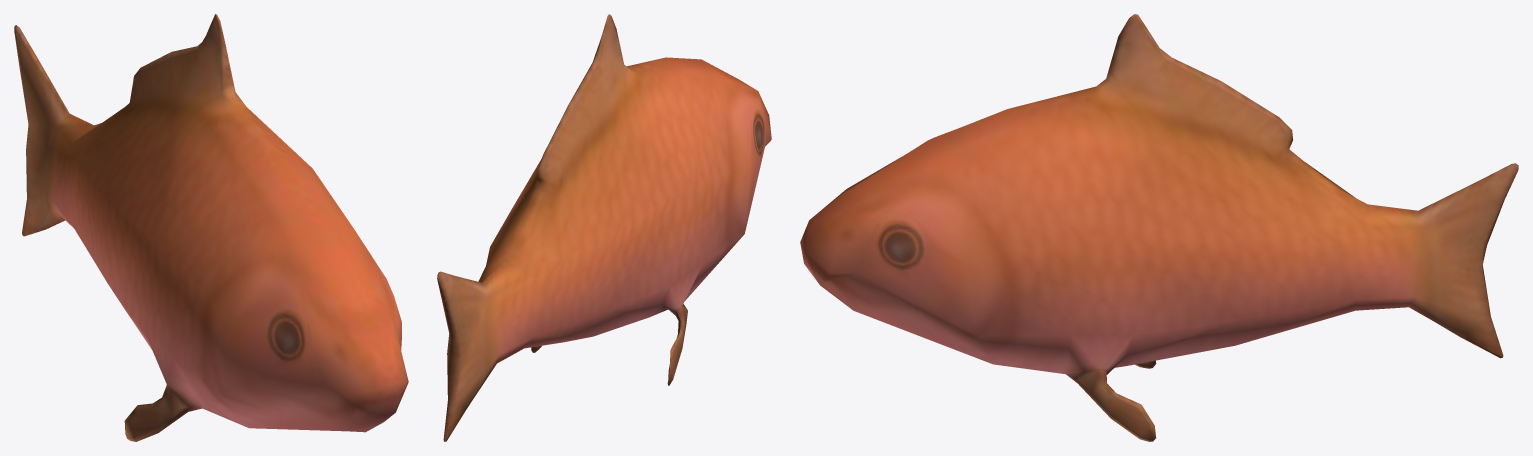
The model's file is Fish2.glb.
3 views of the same model, side by side, from view 1: azimuth 30°, elevation 25°; view 2: azimuth 150°, elevation 25°; view 3: azimuth 270°, elevation 25° (orthographic). The views are drawn at different scales.
Visible parts, largest first — view 1: low; view 2: low; view 3: low.
Part boxes in pixels (<box>): low: <box>14,14,408,441</box>; low: <box>437,14,771,441</box>; low: <box>800,14,1518,441</box>.
Size of the model in its own units: 1.22 by 2.94 by 4.89.
1 material, 1 textured.
